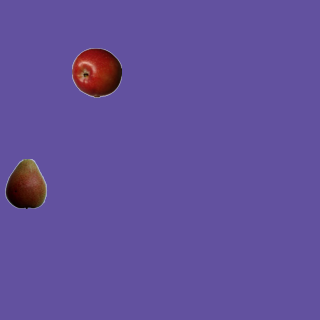Apple Braeburn: (71, 47, 121, 97)
Pear Forelle: (0, 158, 50, 208)
